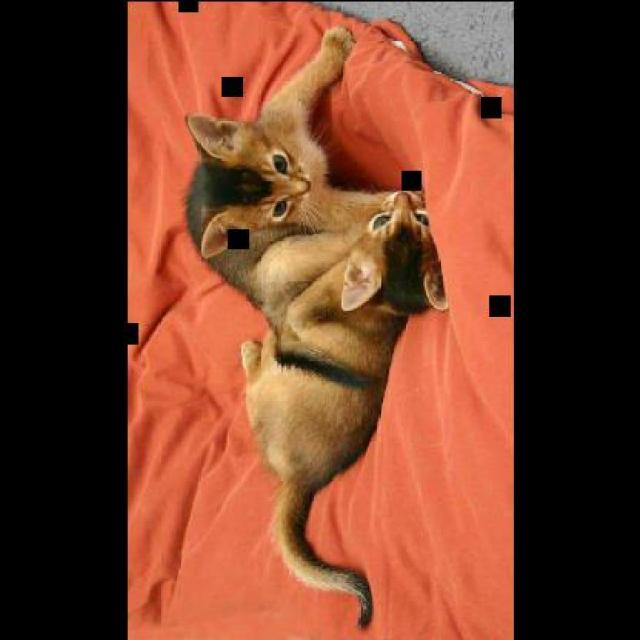unauthorized: (238, 188, 448, 626), (183, 23, 422, 259)
